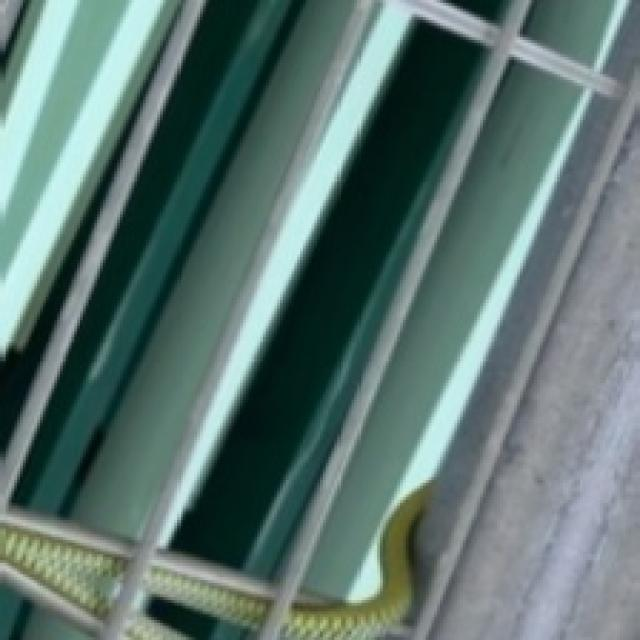paradise tree snake: (283, 483, 429, 637), (0, 514, 126, 617), (146, 554, 269, 629)
